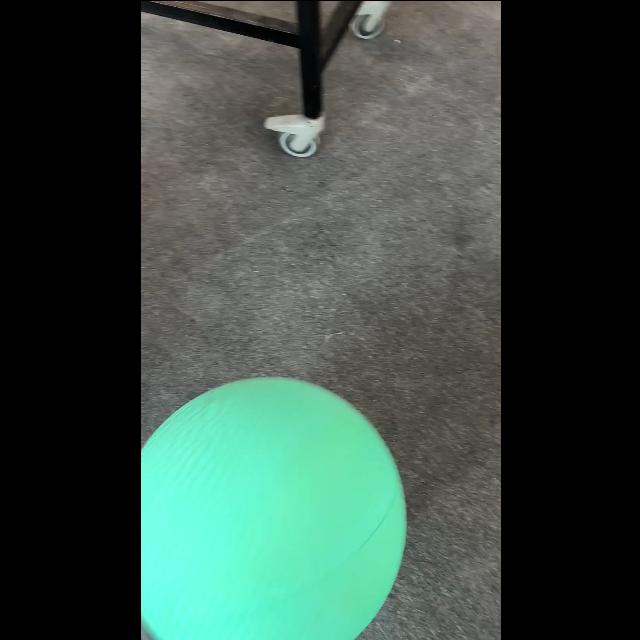ALGAE: (140, 374, 406, 638)
